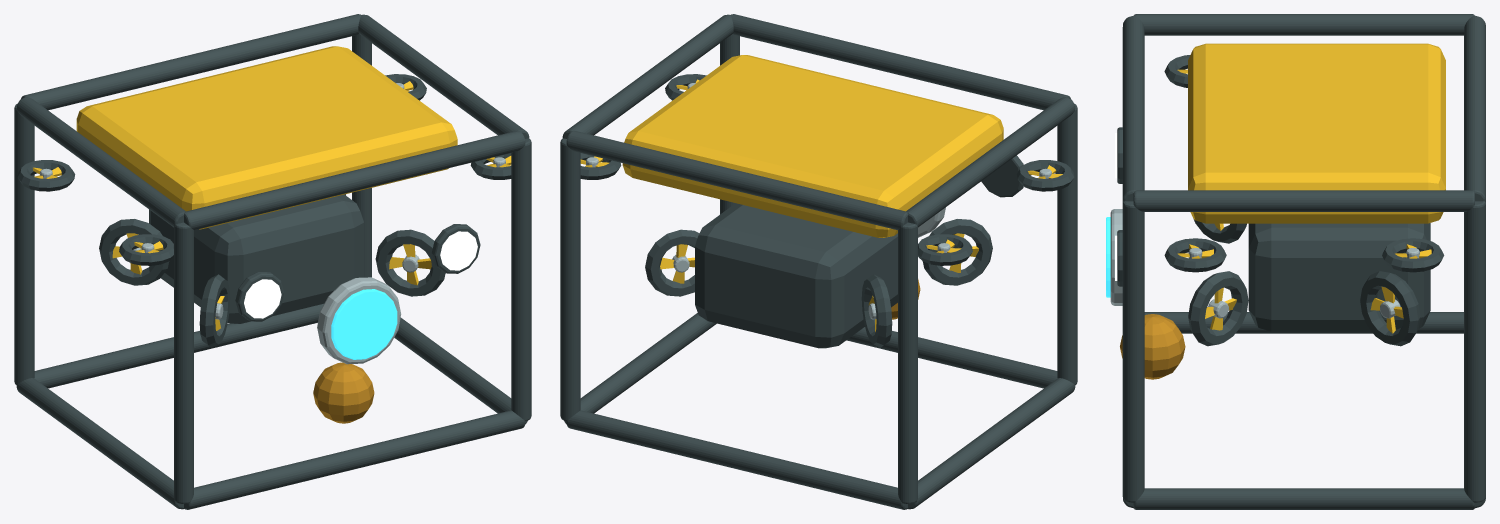
File: rov-inspection.glb
The picture shows the model from 3 angles, left to right: view 1: azimuth 30°, elevation 25°; view 2: azimuth 150°, elevation 25°; view 3: azimuth 270°, elevation 25°; orthographic projection. The views are drawn at different scales.
Parts seen in each view (by area): view 1: top_float, electronics, inspection_frame_x_1_-1, inspection_frame_x_-1_-1, inspection_frame_x_1_1, inspection_frame_v_1_-1, inspection_frame_v_-1_-1, inspection_frame_v_-1_1, inspection_frame_x_-1_1, inspection_frame_y_1_-1, inspection_frame_y_-1_-1, inspection_frame_y_1_1 (+15 smaller); view 2: top_float, electronics, inspection_frame_x_1_1, inspection_frame_x_-1_1, inspection_frame_x_1_-1, inspection_frame_v_1_1, inspection_frame_v_-1_1, inspection_frame_v_-1_-1, inspection_frame_y_1_-1, inspection_frame_y_-1_-1, inspection_frame_y_1_1, inspection_frame_x_-1_-1 (+9 smaller); view 3: top_float, electronics, inspection_frame_y_1_1, inspection_frame_y_-1_1, inspection_frame_y_1_-1, inspection_frame_v_1_-1, inspection_frame_v_1_1, inspection_frame_x_1_1, inspection_frame_x_1_-1, inspection_h2_housing, inspection_h4_housing, sonar (+6 smaller).
Part boxes in pixels (x1,y1,x2,y2): top_float: (76, 46, 457, 229); electronics: (149, 194, 363, 323); inspection_frame_x_1_-1: (184, 131, 525, 230); inspection_frame_x_-1_-1: (184, 410, 525, 509); inspection_frame_x_1_1: (21, 14, 361, 110); inspection_frame_v_1_-1: (511, 138, 531, 420); inspection_frame_v_-1_-1: (174, 222, 193, 503); inspection_frame_v_-1_1: (14, 104, 34, 385); inspection_frame_x_-1_1: (34, 303, 323, 388); inspection_frame_y_1_-1: (16, 97, 185, 227); inspection_frame_y_-1_-1: (16, 378, 184, 509); inspection_frame_y_1_1: (358, 14, 529, 138); top_float: (622, 55, 1003, 237); electronics: (695, 203, 897, 348); inspection_frame_x_1_1: (566, 131, 907, 230); inspection_frame_x_-1_1: (566, 410, 907, 509); inspection_frame_x_1_-1: (730, 14, 1070, 110); inspection_frame_v_1_1: (560, 138, 580, 420); inspection_frame_v_-1_1: (898, 222, 917, 503); inspection_frame_v_-1_-1: (1057, 104, 1077, 385); inspection_frame_y_1_-1: (906, 97, 1075, 227); inspection_frame_y_-1_-1: (907, 378, 1075, 509); inspection_frame_y_1_1: (562, 14, 733, 138); inspection_frame_x_-1_-1: (846, 327, 1057, 388); top_float: (1188, 43, 1445, 223); electronics: (1248, 223, 1430, 331); inspection_frame_y_1_1: (1133, 190, 1474, 211); inspection_frame_y_-1_1: (1133, 488, 1474, 509); inspection_frame_y_1_-1: (1134, 14, 1474, 35); inspection_frame_v_1_-1: (1122, 201, 1144, 502); inspection_frame_v_1_1: (1464, 201, 1485, 502); inspection_frame_x_1_1: (1464, 15, 1485, 201); inspection_frame_x_1_-1: (1123, 15, 1144, 201); inspection_h2_housing: (1188, 271, 1248, 346); inspection_h4_housing: (1360, 271, 1420, 346); sonar: (1120, 314, 1185, 379).
Bounding box in the file's own units: 1.97 × 1.39 × 1.5.
